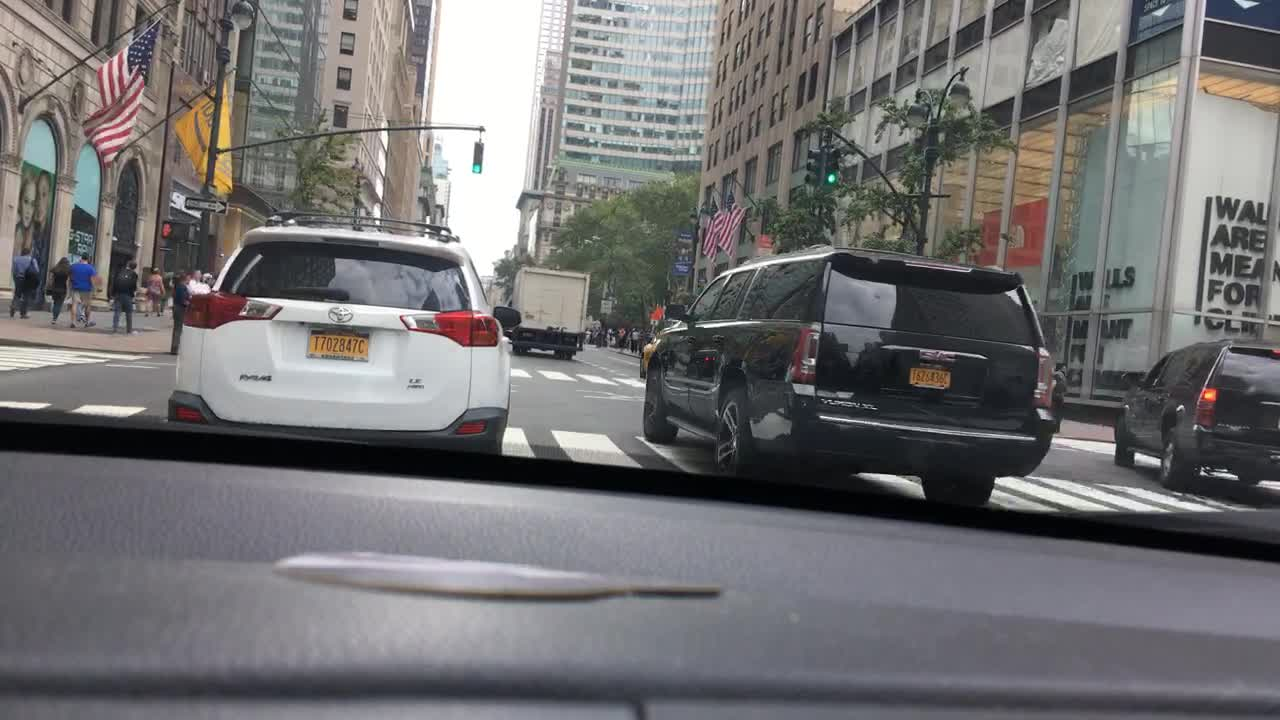car: (641, 243, 1057, 507), (168, 212, 521, 457), (1114, 338, 1279, 490), (640, 323, 675, 377)
person: (7, 244, 41, 317), (69, 251, 99, 328), (112, 259, 138, 331), (173, 270, 191, 356), (49, 256, 72, 323), (1053, 359, 1069, 431), (147, 266, 166, 317), (188, 269, 203, 301), (199, 271, 213, 299), (630, 327, 639, 351), (617, 327, 626, 347), (596, 326, 603, 344), (586, 327, 591, 344)
traffic light: (805, 147, 821, 186), (828, 147, 842, 187), (472, 141, 482, 173), (162, 221, 174, 239)
traffic sign: (185, 196, 227, 215), (600, 299, 612, 313)
truck: (507, 265, 590, 360)
